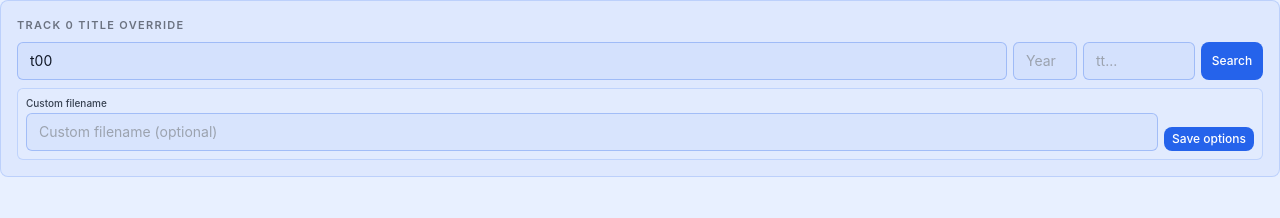
Test case: TrackTitleSearch › interactions › shows error on search failure
Click the button "Search". click: coordinates (1232, 60)
box: [1201, 42, 1263, 80]
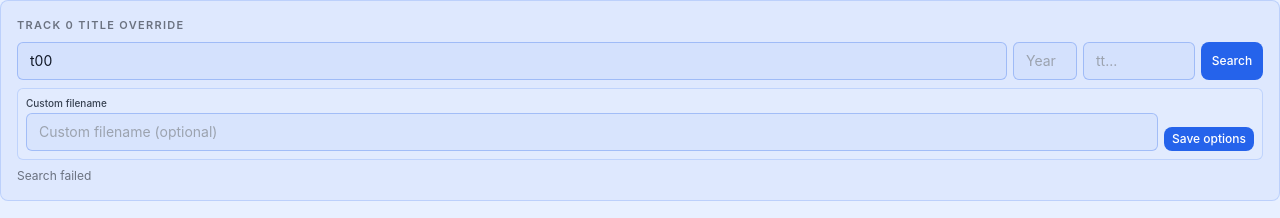
expect the text "Search failed" is shown: met, box [17, 168, 91, 184]
